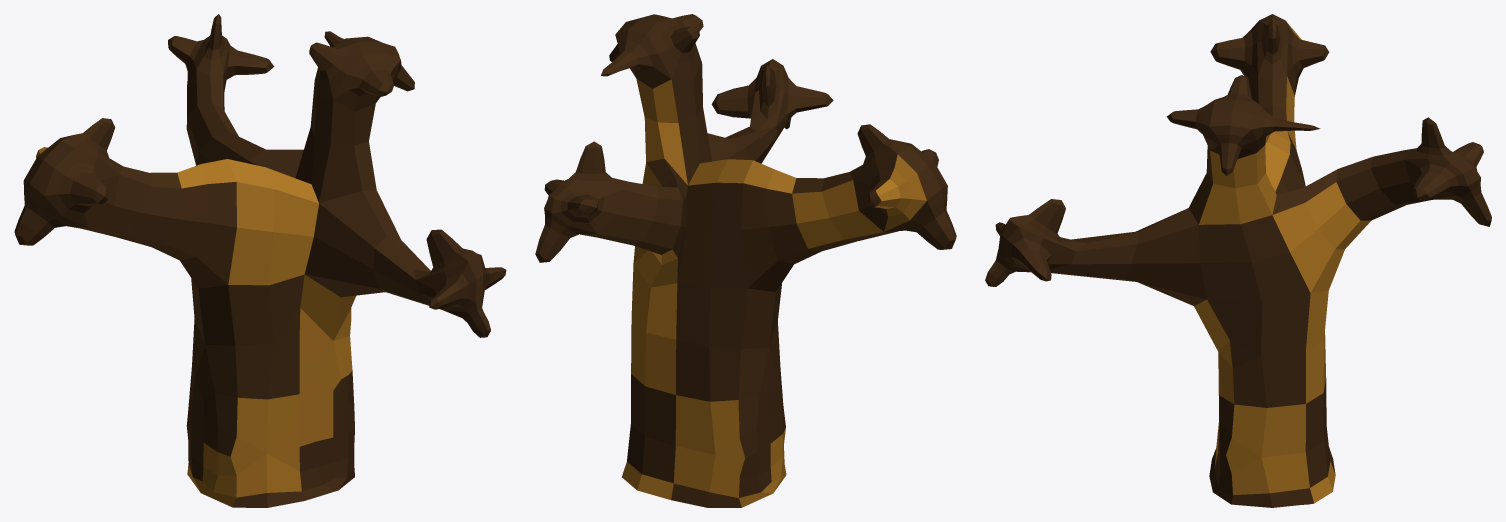
Rendered from deadchocotree.fbx.
3 views of the same model, side by side, from view 1: azimuth 30°, elevation 25°; view 2: azimuth 150°, elevation 25°; view 3: azimuth 270°, elevation 25° (orthographic). The views are drawn at different scales.
Visible parts, largest first — view 1: Cube; view 2: Cube; view 3: Cube.
Boxes of the visible parts, x1,y1,x2,y2 form: Cube: [14, 14, 506, 507]; Cube: [535, 14, 956, 507]; Cube: [985, 14, 1491, 507].
Size of the model in its own units: 763 by 854 by 945.
